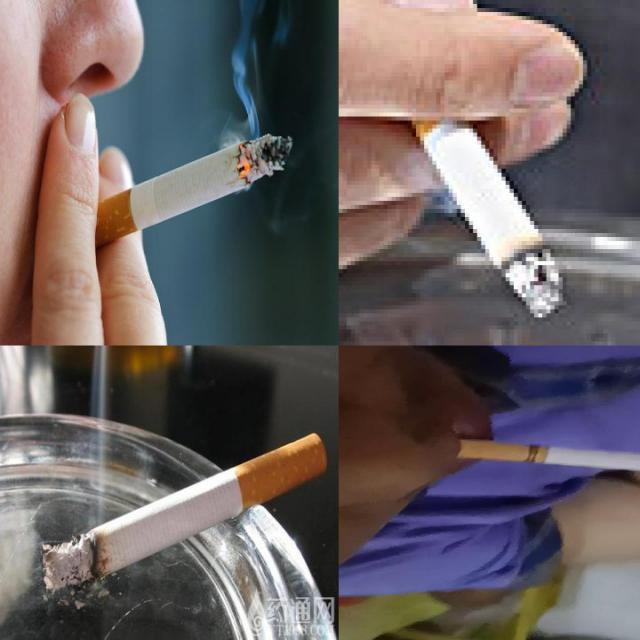smoke: (43, 430, 329, 592), (399, 84, 567, 320), (52, 134, 294, 262), (450, 435, 640, 483)
